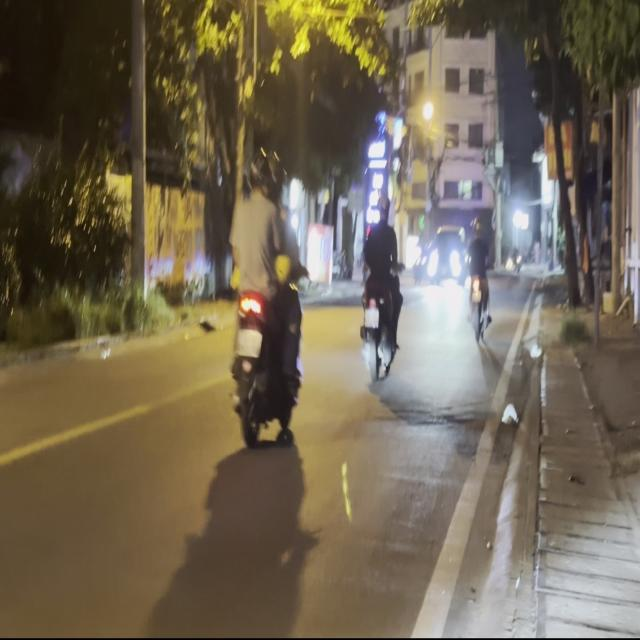helmet: (245, 147, 271, 197)
licenseplate: (224, 143, 306, 447)
nohelmet: (235, 328, 261, 356)
